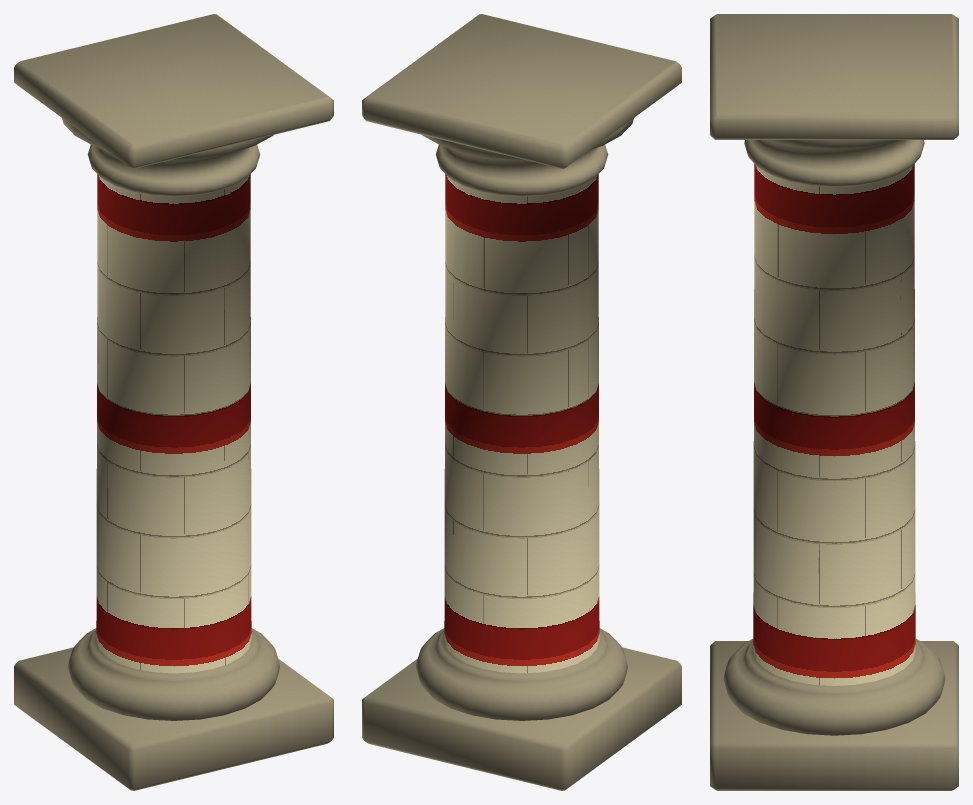
File: theodosian limewall stone pillar nice.glb
3 views of the same model, side by side, from view 1: azimuth 30°, elevation 25°; view 2: azimuth 150°, elevation 25°; view 3: azimuth 270°, elevation 25° (orthographic). The views are drawn at different scales.
Parts seen in each view (by area): view 1: LimeWall_theodosian_limewall_stone_pillar_nice_column; view 2: LimeWall_theodosian_limewall_stone_pillar_nice_column; view 3: LimeWall_theodosian_limewall_stone_pillar_nice_column.
Part boxes in pixels (x1,y1,x2,y2): LimeWall_theodosian_limewall_stone_pillar_nice_column: [14, 14, 333, 790]; LimeWall_theodosian_limewall_stone_pillar_nice_column: [362, 14, 681, 790]; LimeWall_theodosian_limewall_stone_pillar_nice_column: [710, 14, 958, 790].
Size of the model in its own units: 0.9144 by 2.74 by 0.9144.
Materials: 2 (2 with a texture image).
